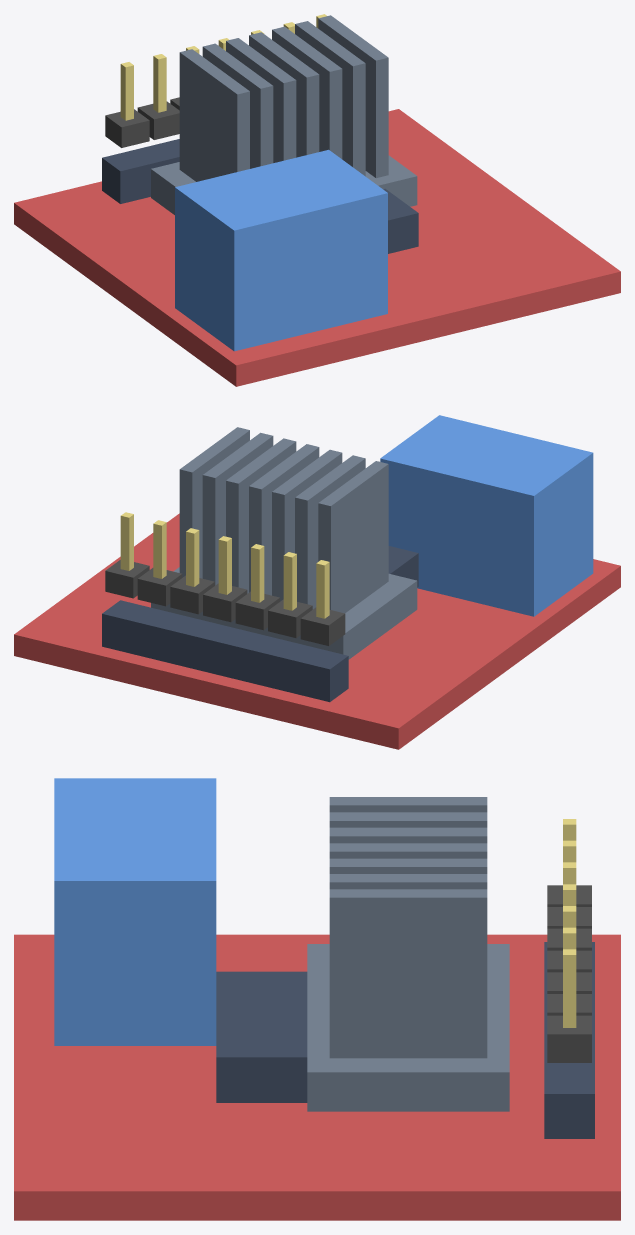
Rendered from mosfet-module-irf520.glb.
3 views of the same model, one above another, from view 1: azimuth 30°, elevation 25°; view 2: azimuth 150°, elevation 25°; view 3: azimuth 270°, elevation 25° (orthographic). The views are drawn at different scales.
Parts seen in each view (by area): view 1: mosfet-module-irf520_mesh; view 2: mosfet-module-irf520_mesh; view 3: mosfet-module-irf520_mesh.
Boxes of the visible parts, x1,y1,x2,y2 form: mosfet-module-irf520_mesh: (14,14,620,386); mosfet-module-irf520_mesh: (14,415,620,749); mosfet-module-irf520_mesh: (14,778,620,1220).
Size of the model in its own units: 30 by 13.36 by 30.
